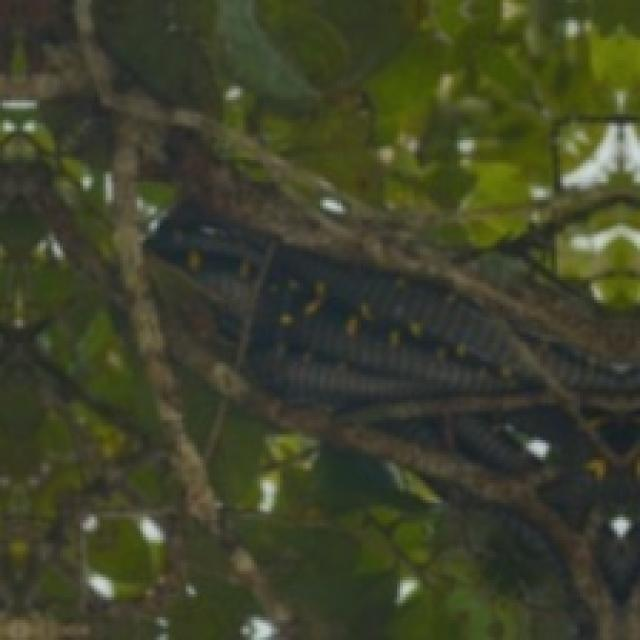mangrove cat snake: (149, 200, 637, 637), (243, 243, 637, 446), (149, 203, 269, 363)
